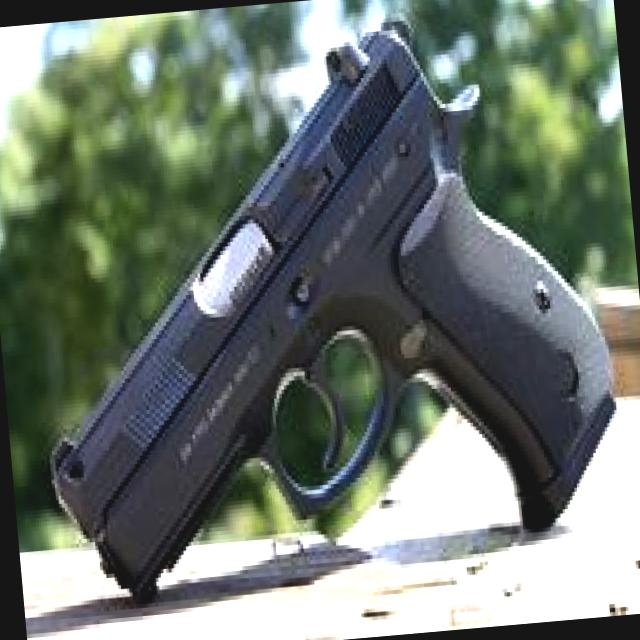semi automatic: (2, 0, 634, 621)
